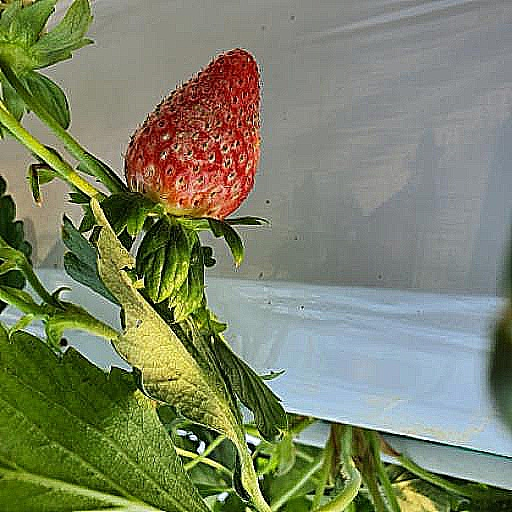Powdery Mildew Fruit: (249, 291, 389, 467)
